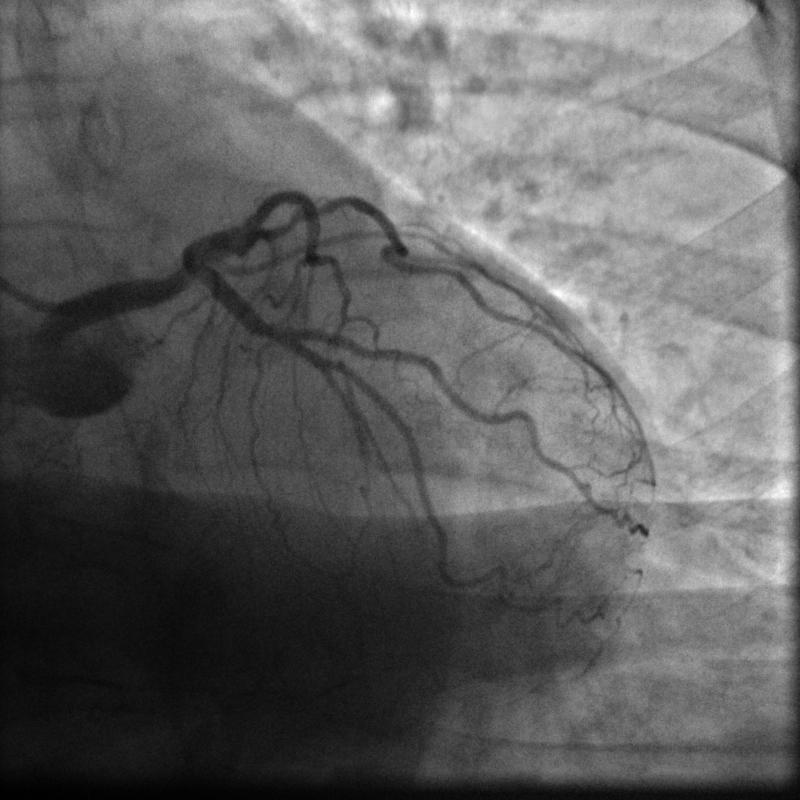Stenosis: (263, 314, 292, 356)
